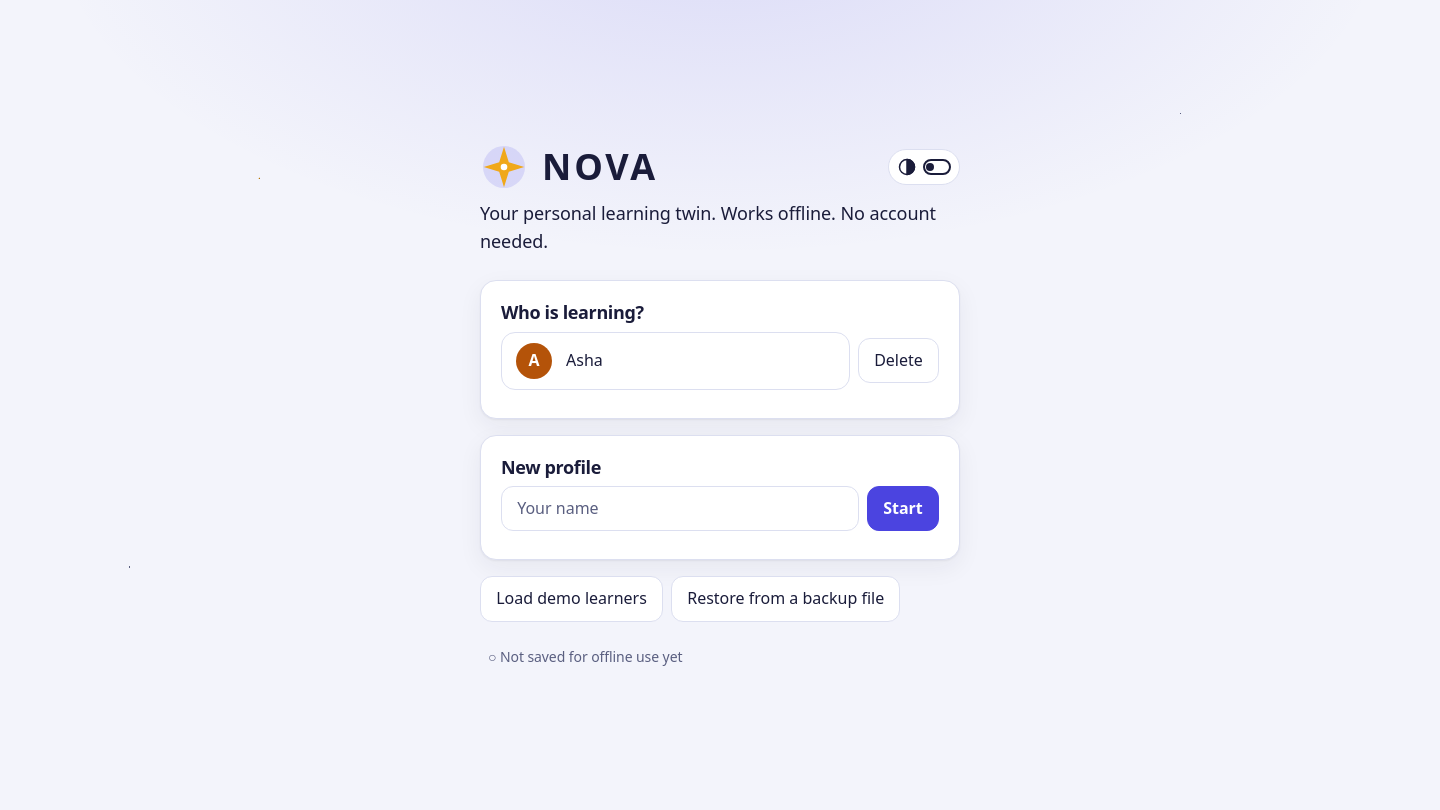
Scenario: Home: two parts › the next step sends the student to Learn for a topic of their chosen subject
Click the button "A Asha" at {"x": 534, "y": 361}, box [501,332,850,390]
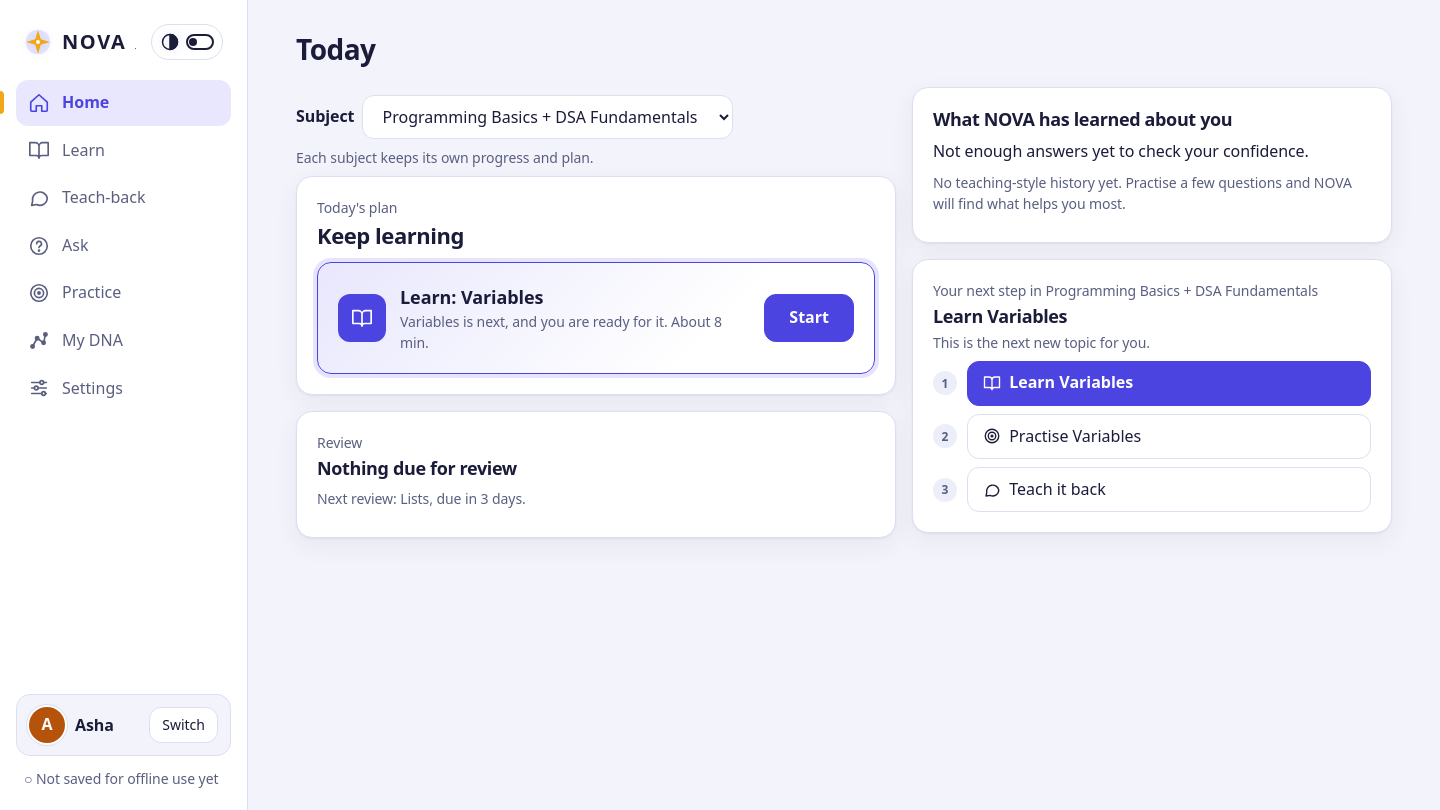
Expected: the heading "Nothing due for review" is shown, [317,456,517,480]
Click the button "Learn Variables" at {"x": 1034, "y": 382}, box [967,361,1371,406]
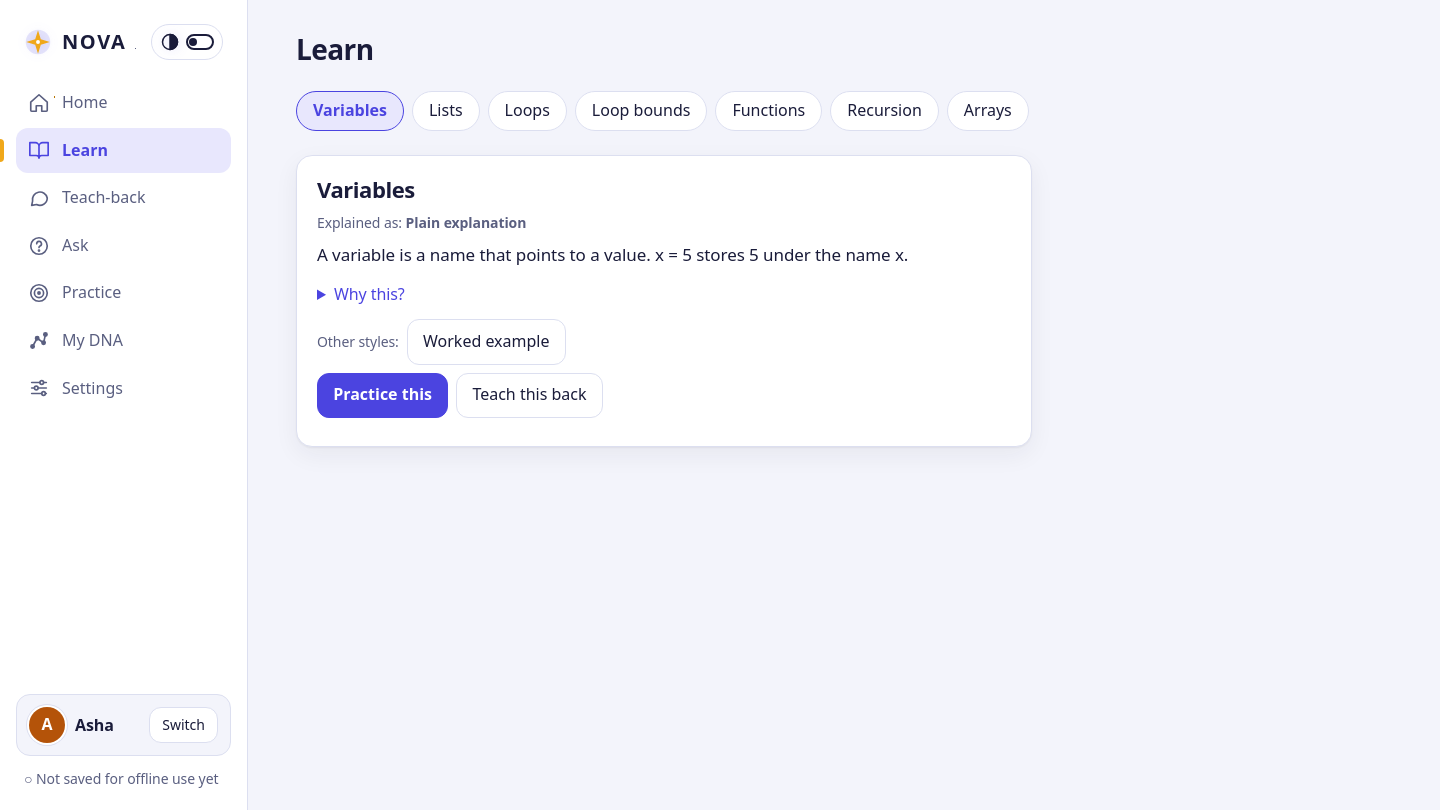
Expected: the heading "Learn" is shown, [296,30,374,68]
